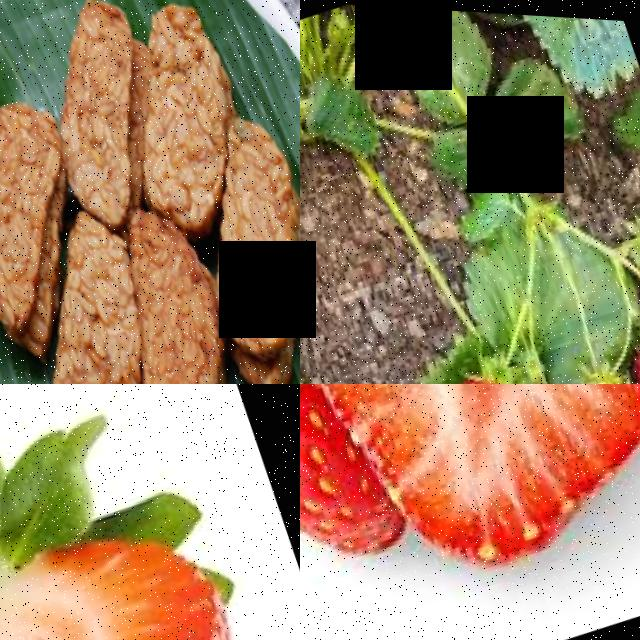strawberry: (300, 384, 640, 601), (0, 469, 300, 640), (300, 384, 391, 630)
tempeh: (109, 208, 259, 384), (125, 0, 259, 179), (53, 0, 177, 187), (0, 91, 97, 270), (30, 269, 173, 384)
